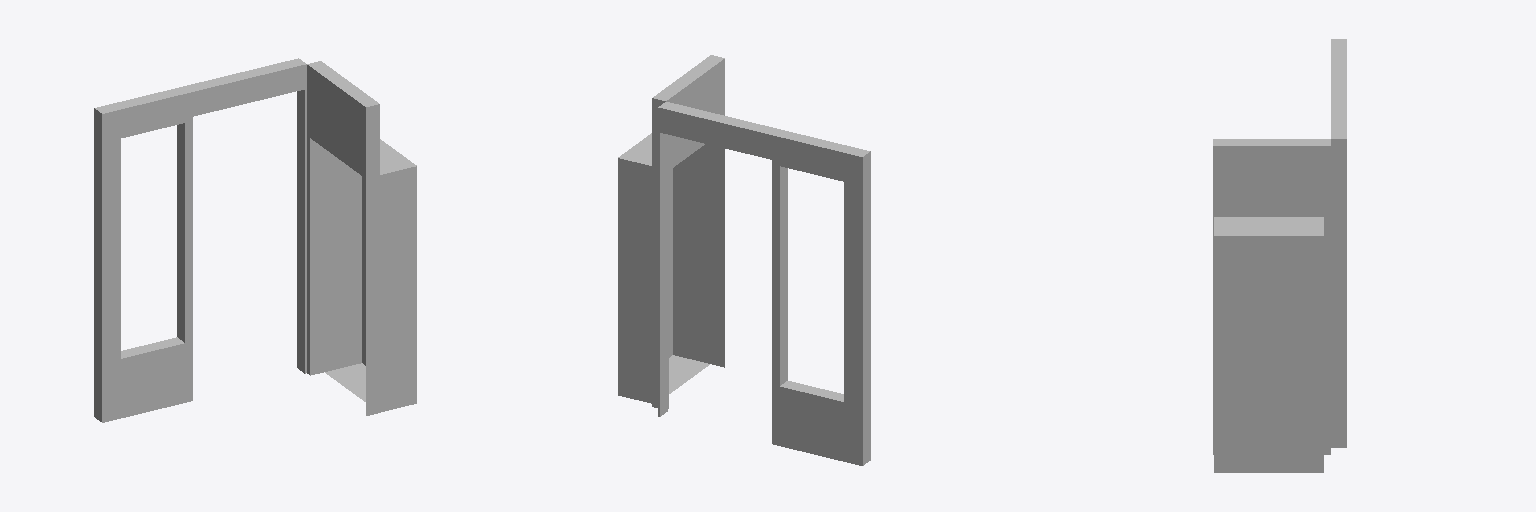
File: OrangeObjects.obj
3 views of the same model, side by side, from view 1: azimuth 30°, elevation 25°; view 2: azimuth 150°, elevation 25°; view 3: azimuth 270°, elevation 25° (orthographic).
Parts seen in each view (by area): view 1: OrangeObjects; view 2: OrangeObjects; view 3: OrangeObjects.
Part boxes in pixels (x1,y1,x2,y2): OrangeObjects: (94, 58, 416, 422); OrangeObjects: (618, 55, 870, 465); OrangeObjects: (1213, 39, 1346, 472).
Bounding box in the file's own units: 9.52 × 10.97 × 4.32.